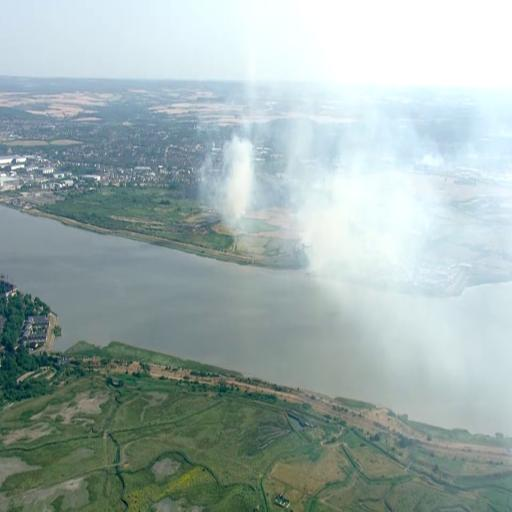smoke: (330, 173, 384, 283), (223, 133, 258, 195)
